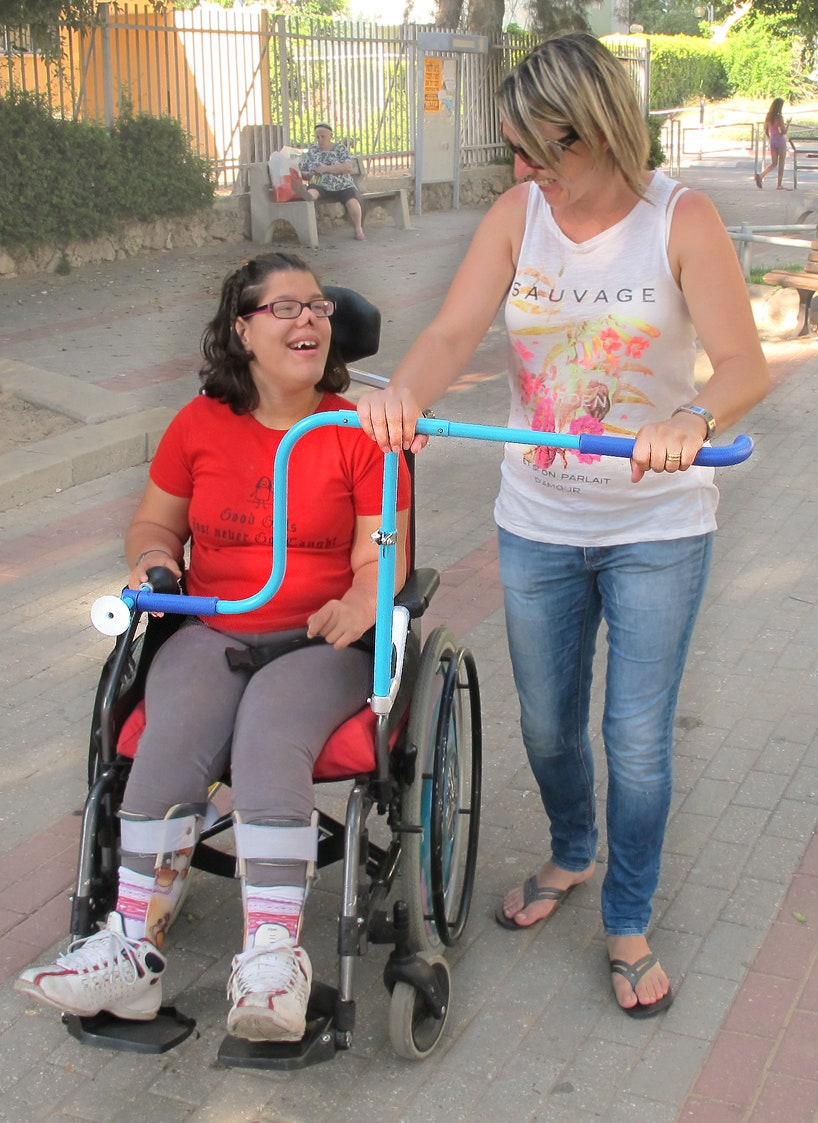wheelchair: (12, 253, 483, 1066)
